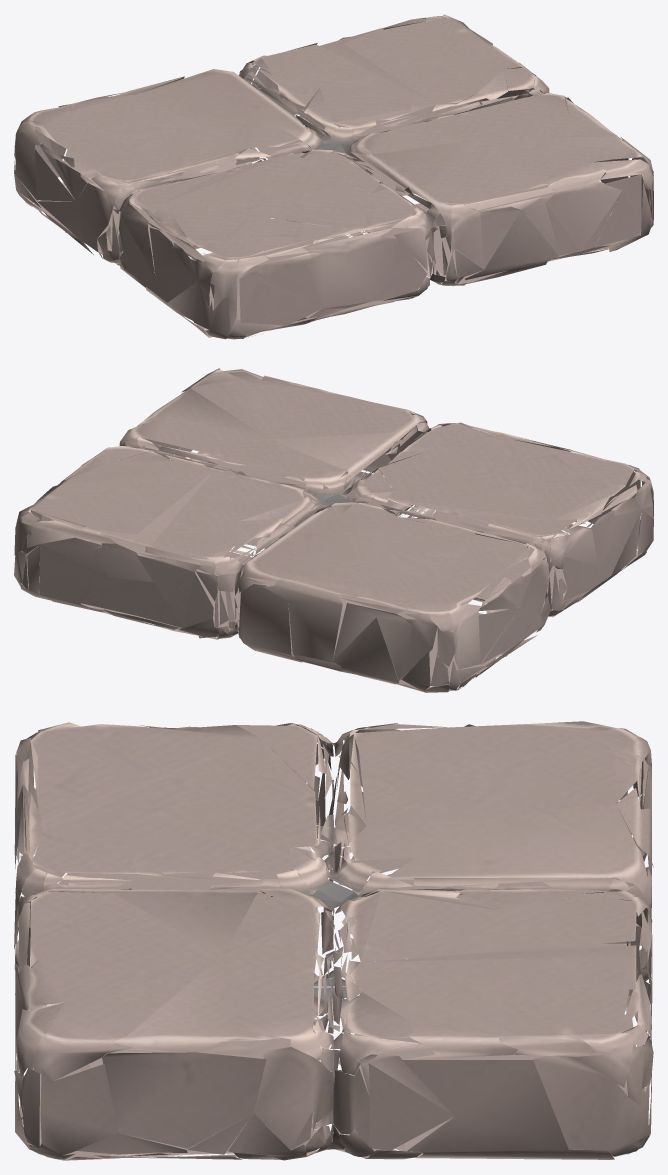
Rendered from paving.glb.
3 renders of one model, top to bottom at view 1: azimuth 30°, elevation 25°; view 2: azimuth 150°, elevation 25°; view 3: azimuth 270°, elevation 25°, orthographic. The views are drawn at different scales.
Visible parts, largest first — view 1: Mesh_0; view 2: Mesh_0; view 3: Mesh_0.
Boxes of the visible parts, bbox=[...] form: Mesh_0: bbox=[14, 14, 653, 339]; Mesh_0: bbox=[14, 368, 653, 692]; Mesh_0: bbox=[14, 721, 653, 1160].
Bounding box in the file's own units: 1.92 × 0.3422 × 1.58.
Materials: 1 (1 with a texture image).
